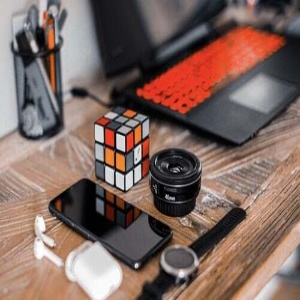cube: (94, 104, 151, 192)
